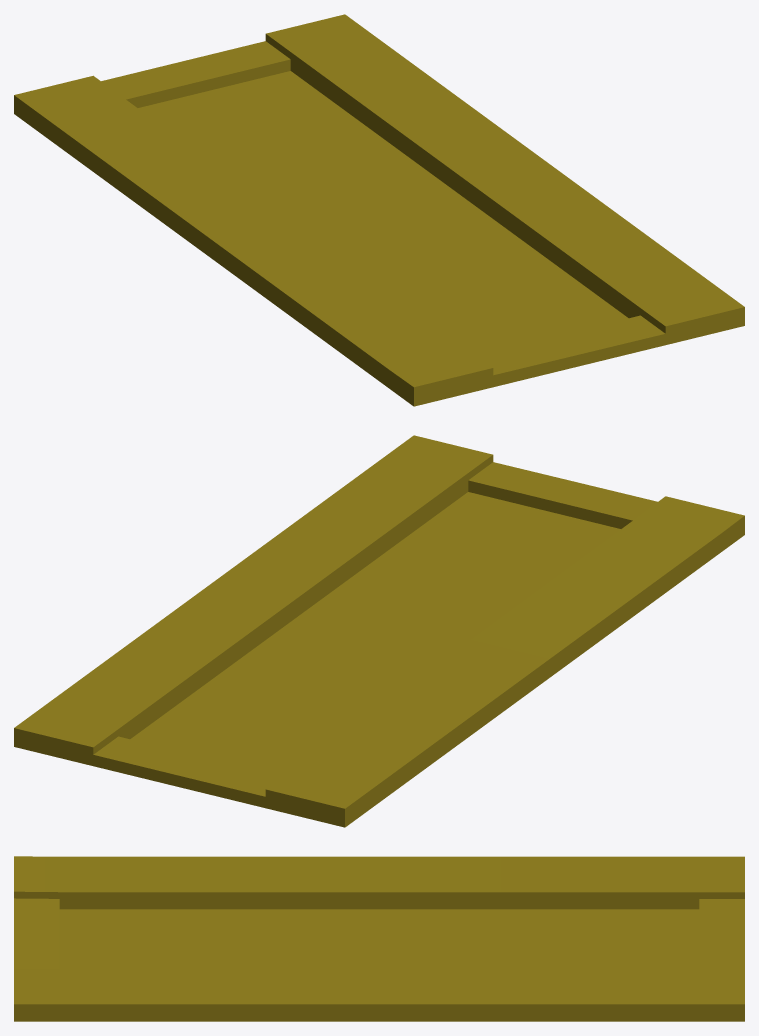
File: soil.fbx
3 renders of one model, top to bottom at view 1: azimuth 30°, elevation 25°; view 2: azimuth 150°, elevation 25°; view 3: azimuth 270°, elevation 25°, orthographic. The views are drawn at different scales.
Parts seen in each view (by area): view 1: Object002; view 2: Object002; view 3: Object002.
Boxes of the visible parts, x1,y1,x2,y2 form: Object002: [14, 14, 744, 406]; Object002: [14, 435, 744, 827]; Object002: [14, 856, 744, 1021].
Bounding box in the file's own units: 42.8 × 2.39 × 89.53.
